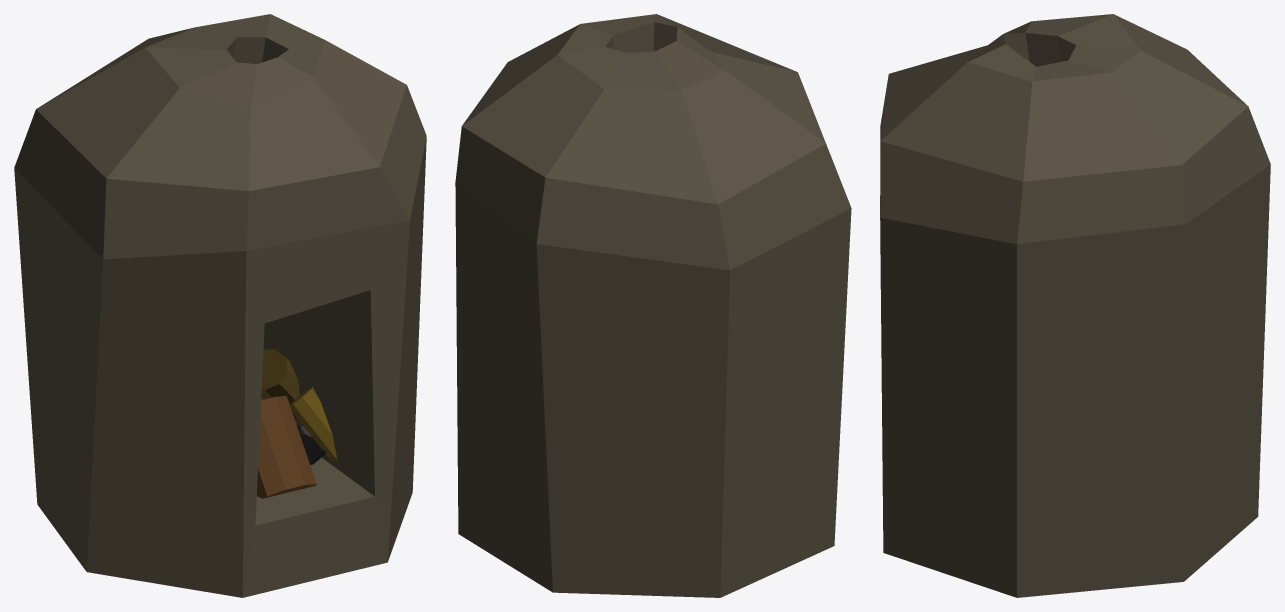
File: Furnance.fbx
3 renders of one model, left to right at view 1: azimuth 30°, elevation 25°; view 2: azimuth 150°, elevation 25°; view 3: azimuth 270°, elevation 25°, orthographic. The views are drawn at different scales.
Parts seen in each view (by area): view 1: Cylinder, LOG1, tronco2, LOG4; view 2: Cylinder; view 3: Cylinder.
Boxes of the visible parts, x1,y1,x2,y2 form: Cylinder: (14,14,426,597); LOG1: (256,396,316,498); tronco2: (290,387,337,462); LOG4: (261,349,299,419); Cylinder: (455,14,851,597); Cylinder: (880,14,1270,597).
Size of the model in its own units: 203 by 271 by 198.
